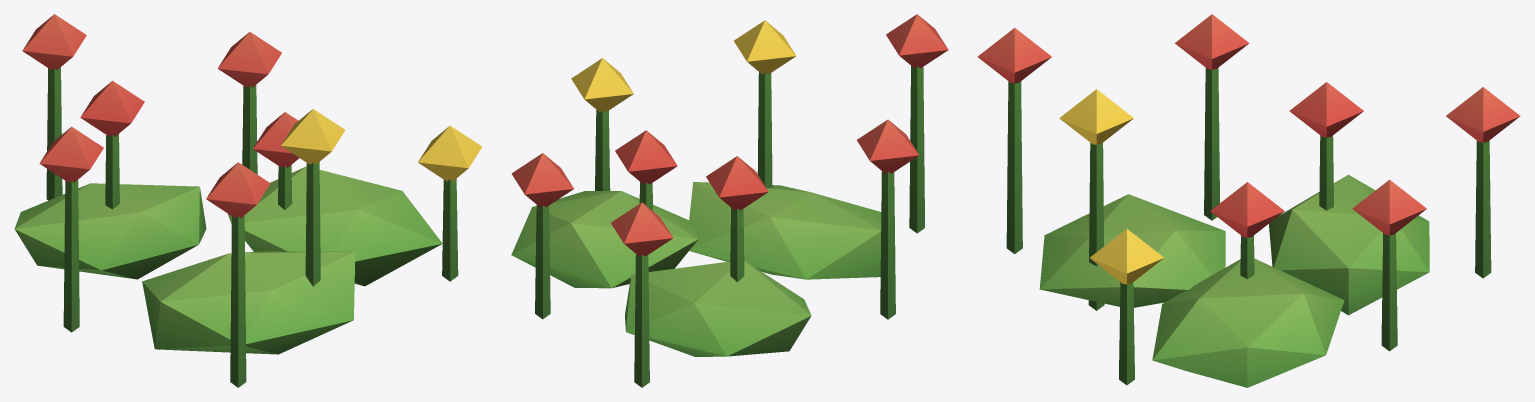
File: flowers_red.glb
3 views of the same model, side by side, from view 1: azimuth 30°, elevation 25°; view 2: azimuth 150°, elevation 25°; view 3: azimuth 270°, elevation 25° (orthographic). The views are drawn at different scales.
Parts seen in each view (by area): view 1: flowers_red; view 2: flowers_red; view 3: flowers_red.
Boxes of the visible parts, x1=… form: flowers_red: x1=14, y1=14, x2=482, y2=387; flowers_red: x1=511, y1=14, x2=948, y2=387; flowers_red: x1=977, y1=14, x2=1520, y2=387.
Size of the model in its own units: 4.46 by 2.54 by 5.22.
1 material, 1 textured.
